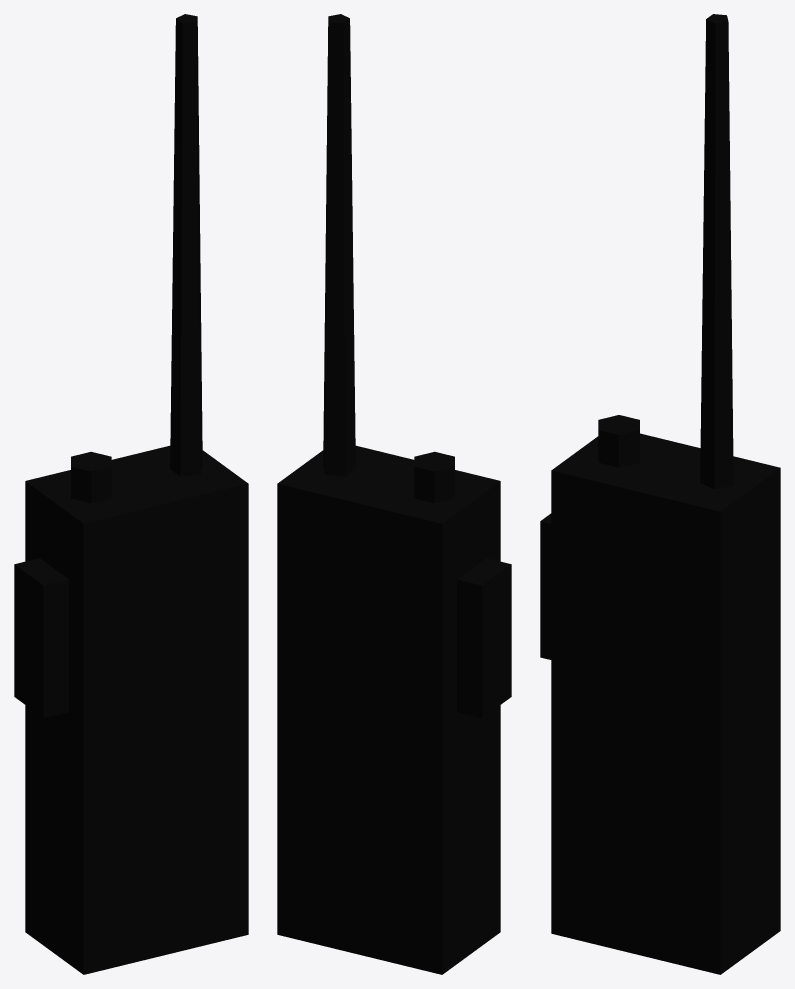
The model's file is SM_walkie_talkie.fbx.
3 views of the same model, side by side, from view 1: azimuth 30°, elevation 25°; view 2: azimuth 150°, elevation 25°; view 3: azimuth 330°, elevation 25° (orthographic). The views are drawn at different scales.
Parts seen in each view (by area): view 1: walkie_talkie; view 2: walkie_talkie; view 3: walkie_talkie.
Part boxes in pixels (x1=…): walkie_talkie: x1=14, y1=14, x2=248, y2=974; walkie_talkie: x1=277, y1=14, x2=511, y2=974; walkie_talkie: x1=540, y1=14, x2=780, y2=974.
Size of the model in its own units: 0.075 by 0.34 by 0.04.
